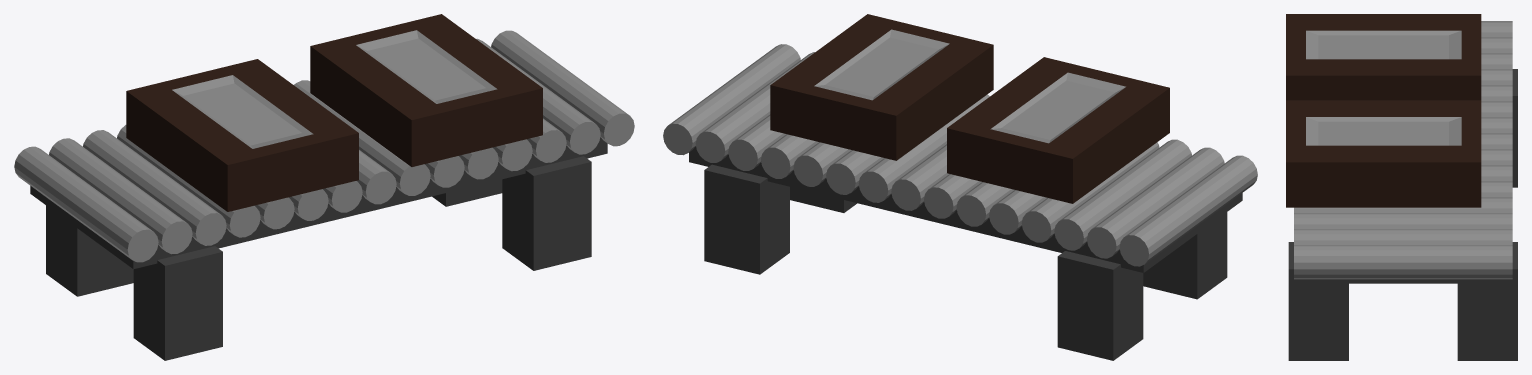
File: conveyorBeltFullBarMolds.fbx
3 renders of one model, left to right at view 1: azimuth 30°, elevation 25°; view 2: azimuth 150°, elevation 25°; view 3: azimuth 270°, elevation 25°, orthographic. The views are drawn at different scales.
Parts seen in each view (by area): view 1: Conveyor Belt Full Bar Molds; view 2: Conveyor Belt Full Bar Molds; view 3: Conveyor Belt Full Bar Molds.
Part boxes in pixels (<box>): Conveyor Belt Full Bar Molds: <box>14,14,634,360</box>; Conveyor Belt Full Bar Molds: <box>663,14,1257,360</box>; Conveyor Belt Full Bar Molds: <box>1286,14,1517,360</box>.
Size of the model in its own units: 193 by 79.54 by 66.33.
